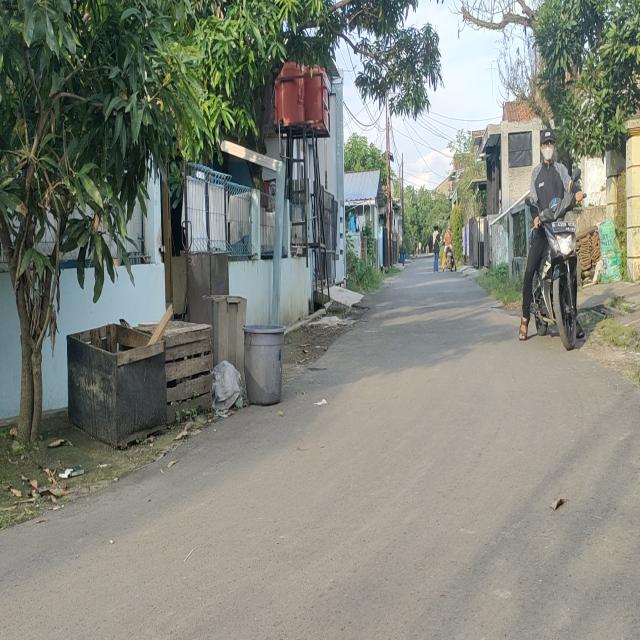no-helmet: (538, 128, 558, 164)
